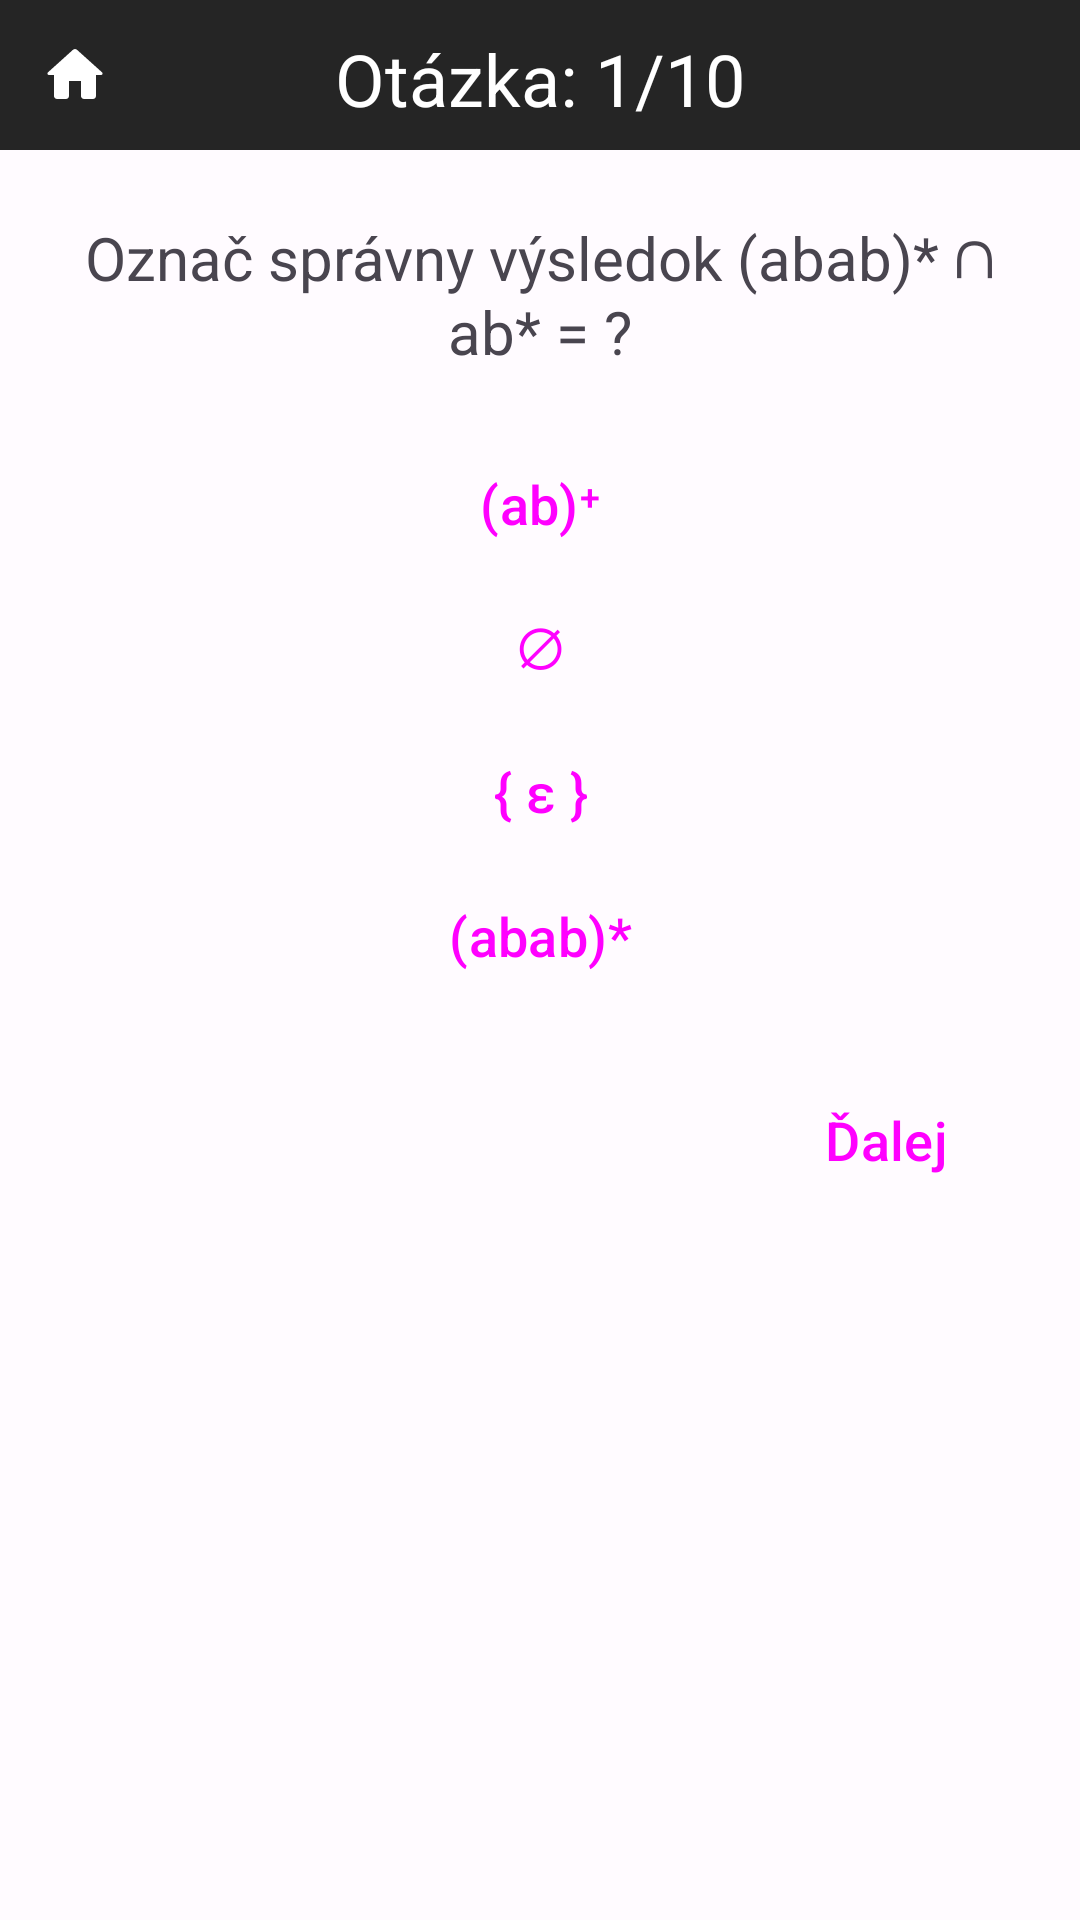

Screen size 1080 × 1920. Icon name, then its center in pixels as point (x, y):
domov: point (75, 74)
